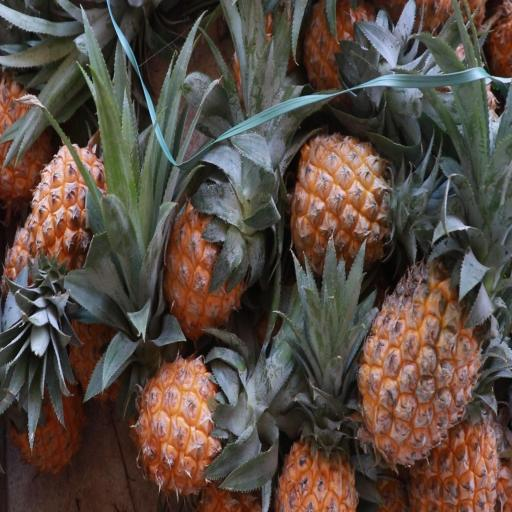Pineapple - v8 v1: (352, 236, 500, 476), (294, 122, 433, 288), (136, 343, 271, 498), (157, 172, 265, 344), (26, 138, 130, 310), (274, 366, 363, 512), (299, 0, 401, 126), (0, 49, 65, 215)
